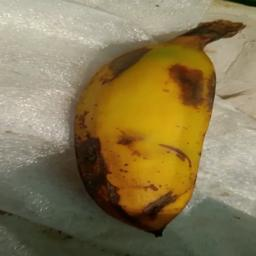Banana Semirotten: (82, 11, 242, 238)
